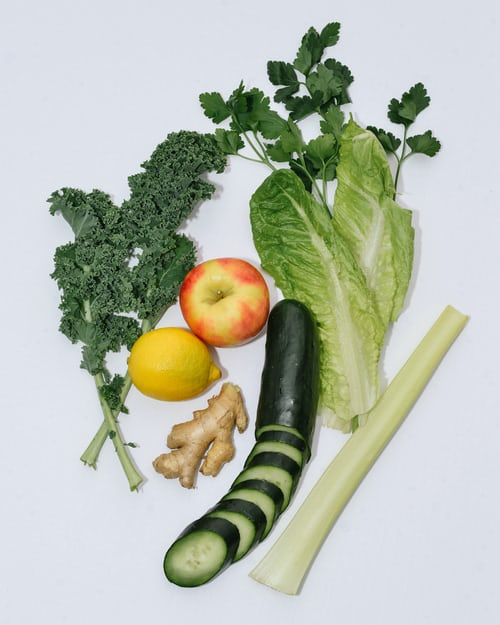apple: (177, 254, 270, 347)
